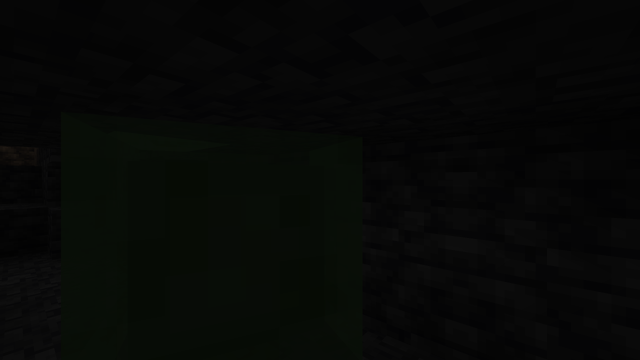slimes: (83, 121, 365, 356)
